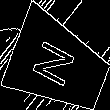N_SE: (33, 37, 85, 94)
